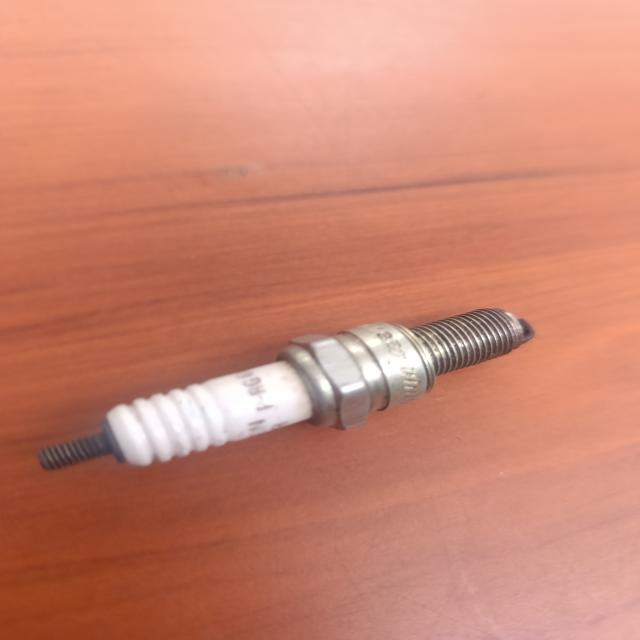Mause: (38, 309, 534, 469)
